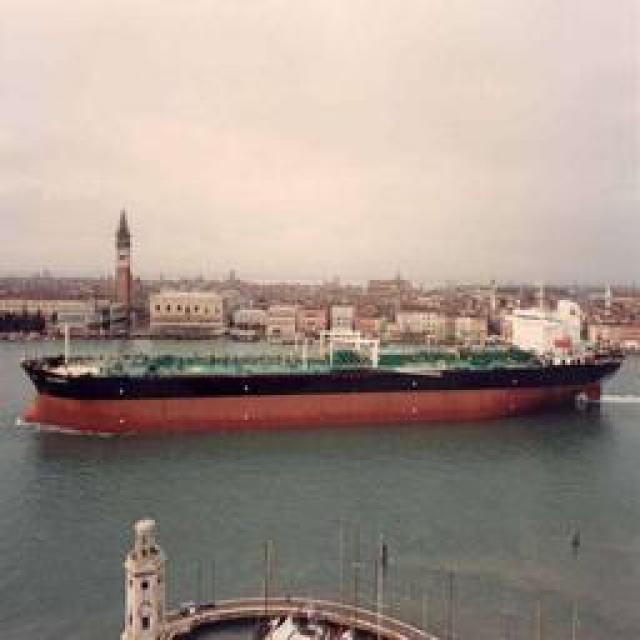Ship: (17, 325, 624, 441)
